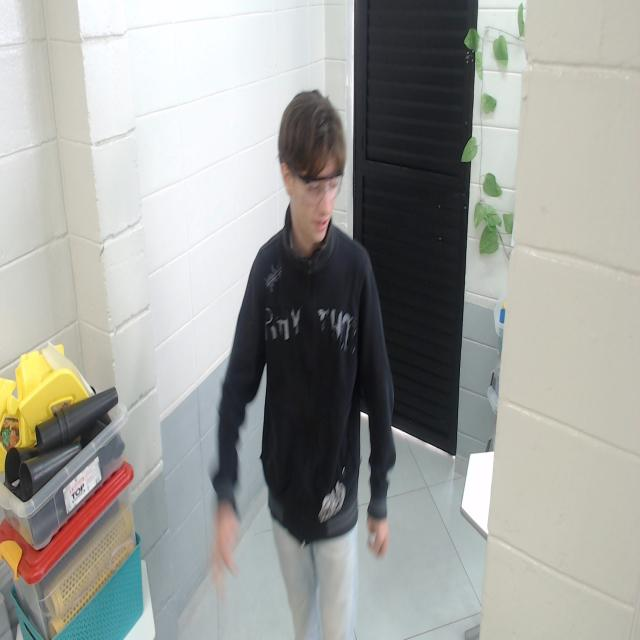oculos-epi: (290, 168, 345, 206)
